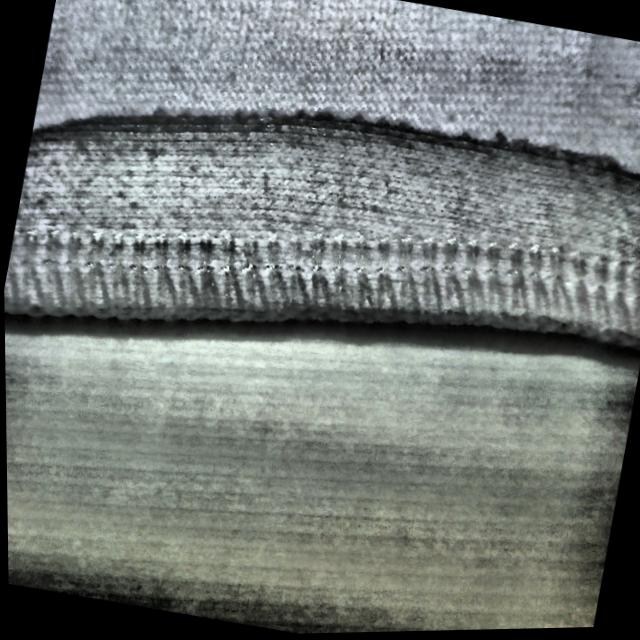seam: (0, 15, 640, 433)
